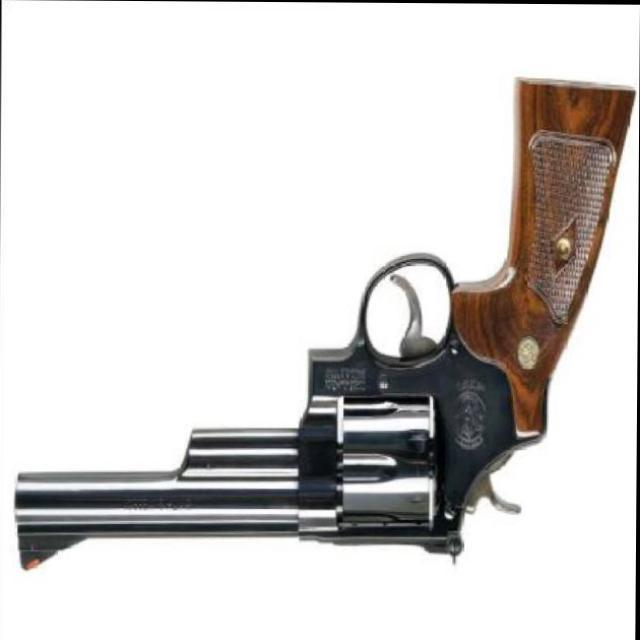weapon: (13, 71, 636, 574)
